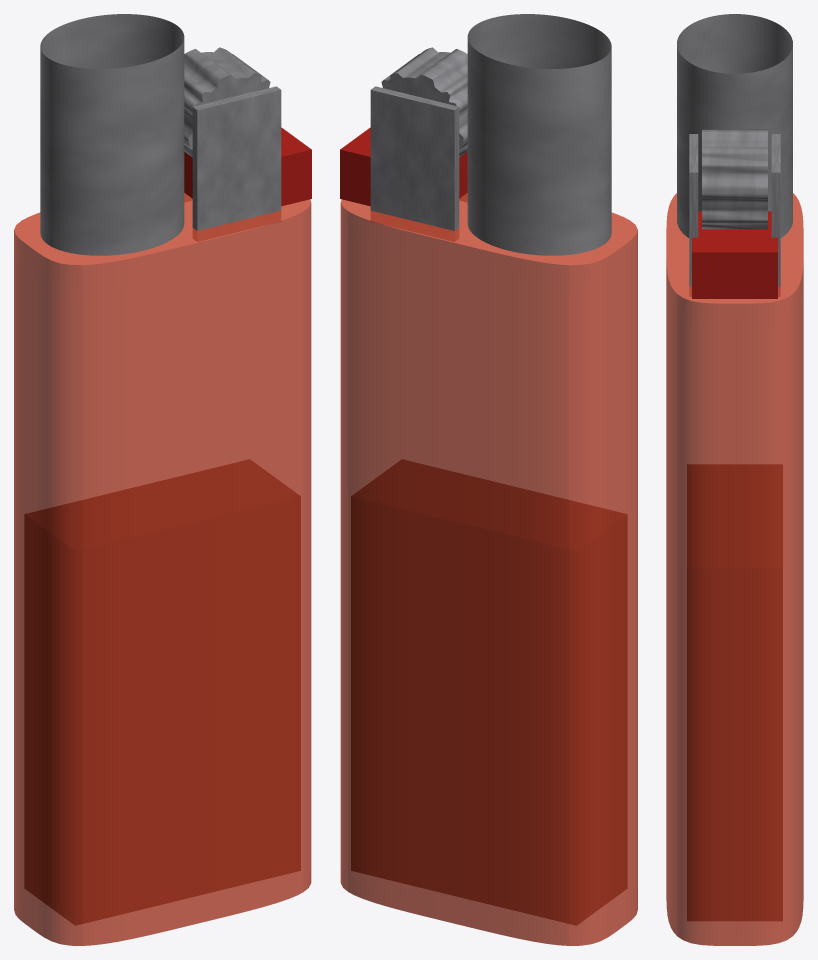
Rendered from lighter_L3.glb.
3 views of the same model, side by side, from view 1: azimuth 30°, elevation 25°; view 2: azimuth 150°, elevation 25°; view 3: azimuth 270°, elevation 25° (orthographic). The views are drawn at different scales.
Visible parts, largest first — view 1: body, butane, hood, fork, wheel, lever; view 2: body, butane, hood, fork, wheel, lever; view 3: body, butane, hood, wheel, lever, fork (×2).
Boxes of the visible parts, bbox=[...] form: body: bbox=[14, 193, 311, 945]; butane: bbox=[25, 460, 300, 924]; hood: bbox=[40, 14, 184, 255]; fork: bbox=[192, 86, 281, 241]; wheel: bbox=[184, 47, 270, 157]; lever: bbox=[184, 127, 311, 206]; body: bbox=[340, 193, 637, 945]; butane: bbox=[351, 460, 626, 924]; hood: bbox=[467, 14, 611, 255]; fork: bbox=[370, 86, 459, 241]; wheel: bbox=[381, 47, 467, 157]; lever: bbox=[340, 127, 467, 206]; body: bbox=[666, 193, 803, 945]; butane: bbox=[687, 465, 782, 920]; hood: bbox=[677, 14, 792, 237]; wheel: bbox=[702, 129, 767, 229]; lever: bbox=[692, 211, 777, 298]; fork (×2): bbox=[689, 134, 780, 296].
Size of the model in its own units: 0.025 by 0.079 by 0.012.
4 materials, 1 textured.
